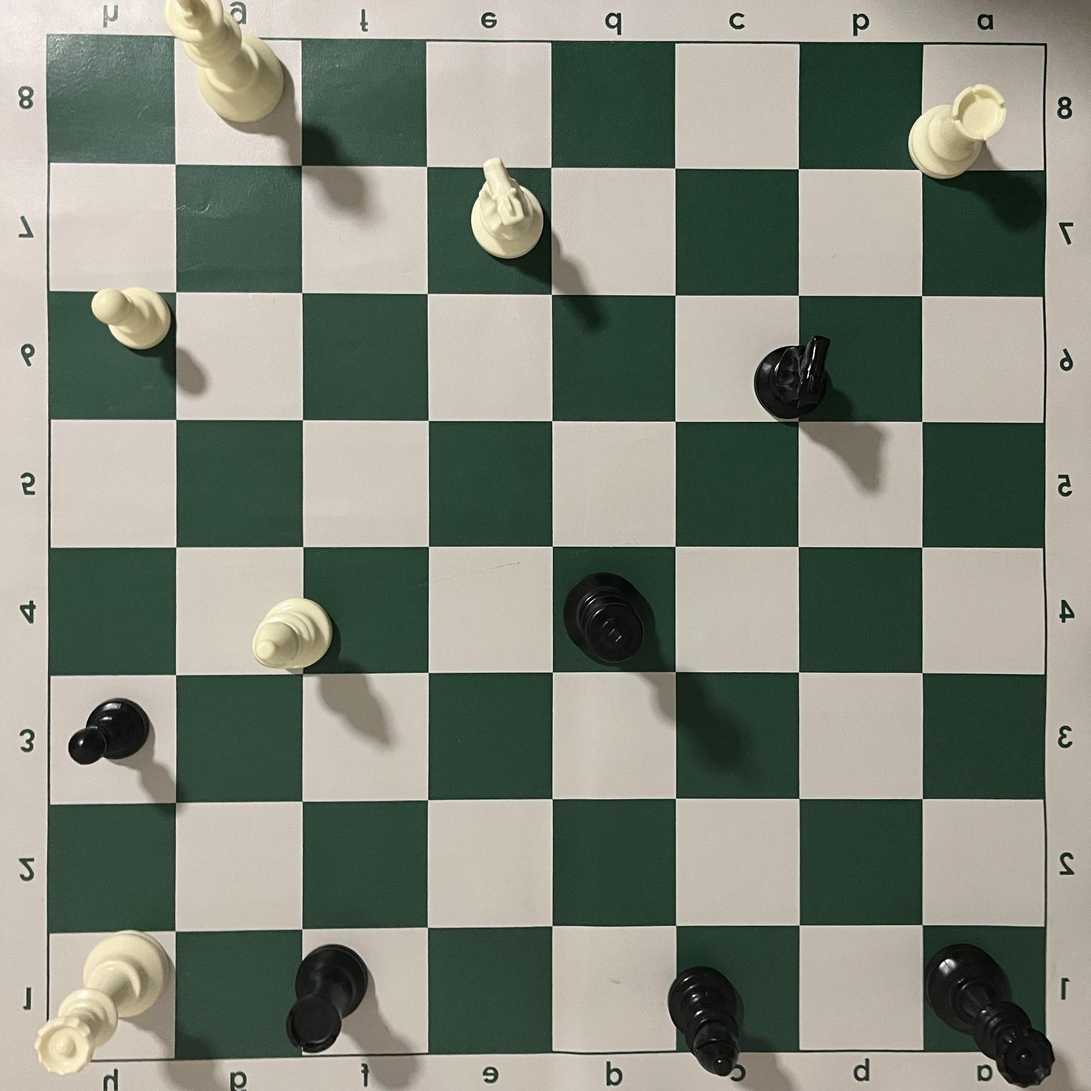black_bishop: (666, 965, 746, 1078)
black_king: (563, 572, 652, 668)
black_knight: (753, 335, 833, 421)
black_pawn: (66, 697, 152, 766)
black_queen: (925, 942, 1058, 1089)
black_rook: (285, 942, 368, 1054)
white_bishop: (251, 596, 333, 673)
white_king: (163, 0, 286, 124)
white_knight: (470, 156, 545, 259)
white_pawn: (91, 286, 172, 350)
white_queen: (34, 928, 170, 1077)
white_rook: (906, 84, 1006, 179)
